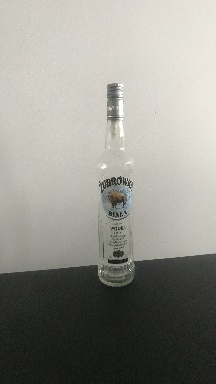butelka: (95, 79, 136, 289)
